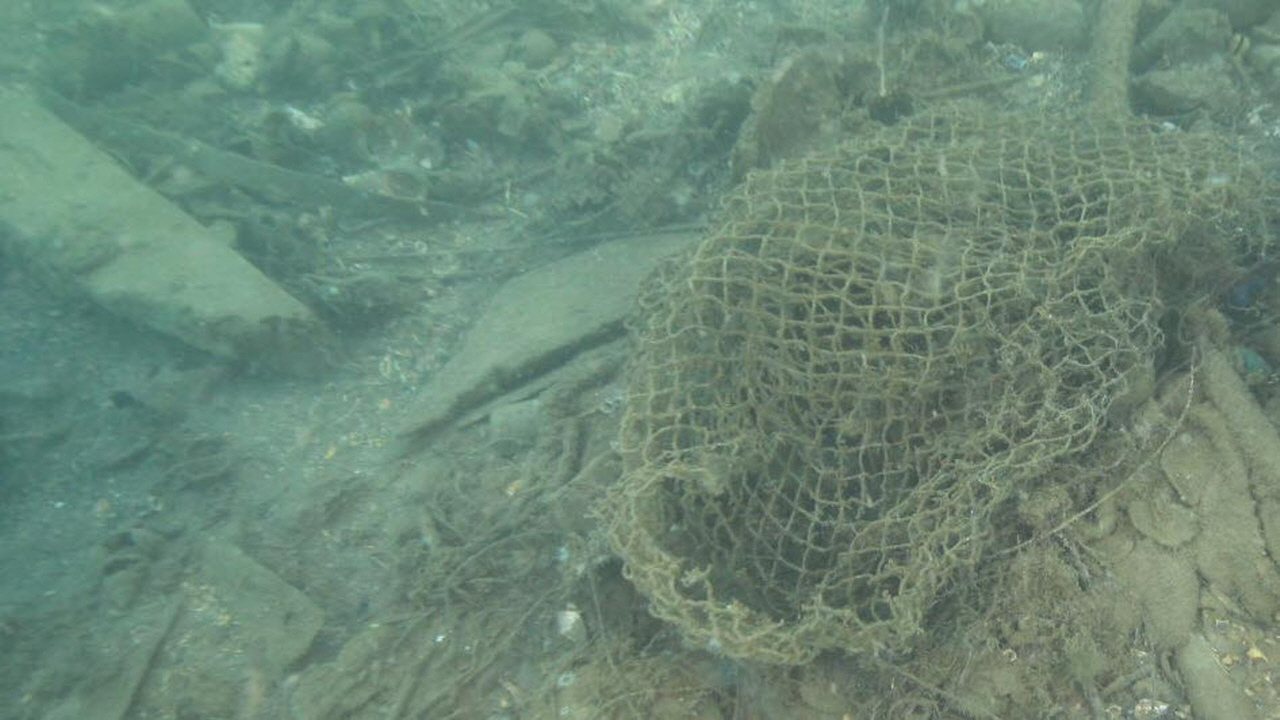fish net: (605, 110, 1280, 666)
